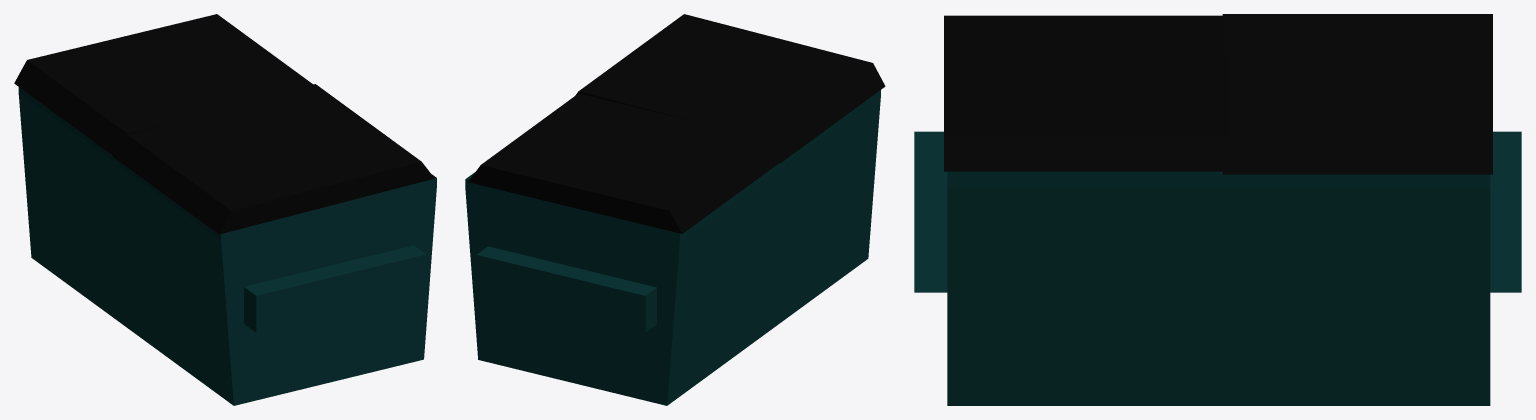
Rendered from Dumpster1.fbx.
3 views of the same model, side by side, from view 1: azimuth 30°, elevation 25°; view 2: azimuth 150°, elevation 25°; view 3: azimuth 270°, elevation 25° (orthographic). The views are drawn at different scales.
Visible parts, largest first — view 1: Dumpster, Lid, Lid2; view 2: Dumpster, Lid2, Lid; view 3: Dumpster, Lid, Lid2.
Part boxes in pixels (x1,y1,x2,y2): Dumpster: [18, 87, 436, 405]; Lid: [113, 84, 434, 234]; Lid2: [14, 14, 312, 156]; Dumpster: [465, 90, 880, 405]; Lid2: [468, 93, 782, 233]; Lid: [575, 14, 885, 163]; Dumpster: [914, 131, 1521, 405]; Lid: [944, 15, 1228, 171]; Lid2: [1222, 14, 1492, 174].
Size of the model in its own units: 231 by 201 by 413.
